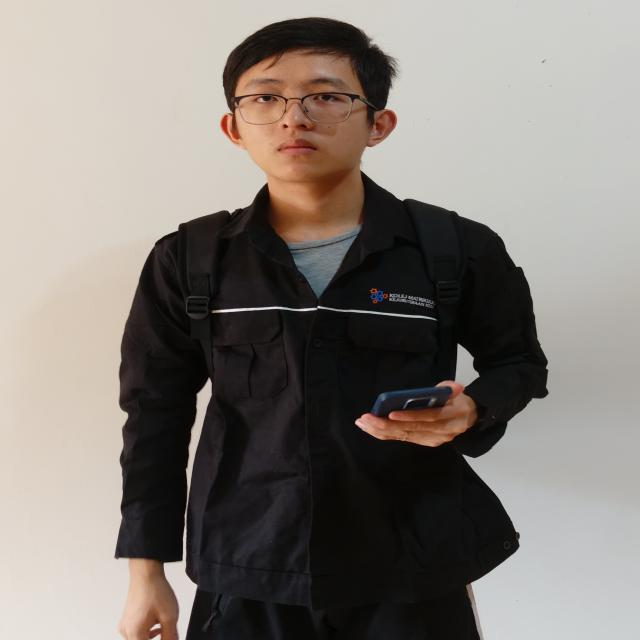person_with_labcoat: (116, 18, 547, 640)
